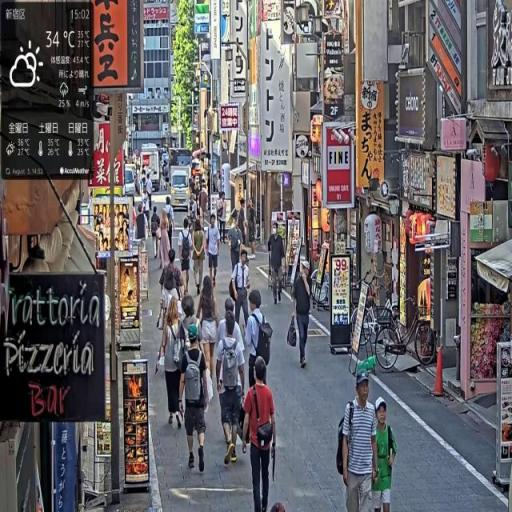person: (337, 371, 380, 512), (215, 300, 248, 468), (243, 358, 279, 512), (180, 325, 212, 478), (156, 301, 188, 431), (370, 399, 399, 512), (245, 291, 274, 394), (197, 272, 221, 390), (291, 259, 314, 372), (231, 247, 253, 342), (269, 220, 288, 307), (160, 248, 184, 308), (193, 217, 208, 299), (179, 220, 194, 296), (207, 216, 222, 291), (228, 215, 244, 284), (136, 205, 150, 253), (164, 197, 176, 251), (152, 205, 163, 262), (161, 208, 171, 270), (247, 199, 257, 260), (218, 192, 228, 247), (238, 198, 248, 251)
